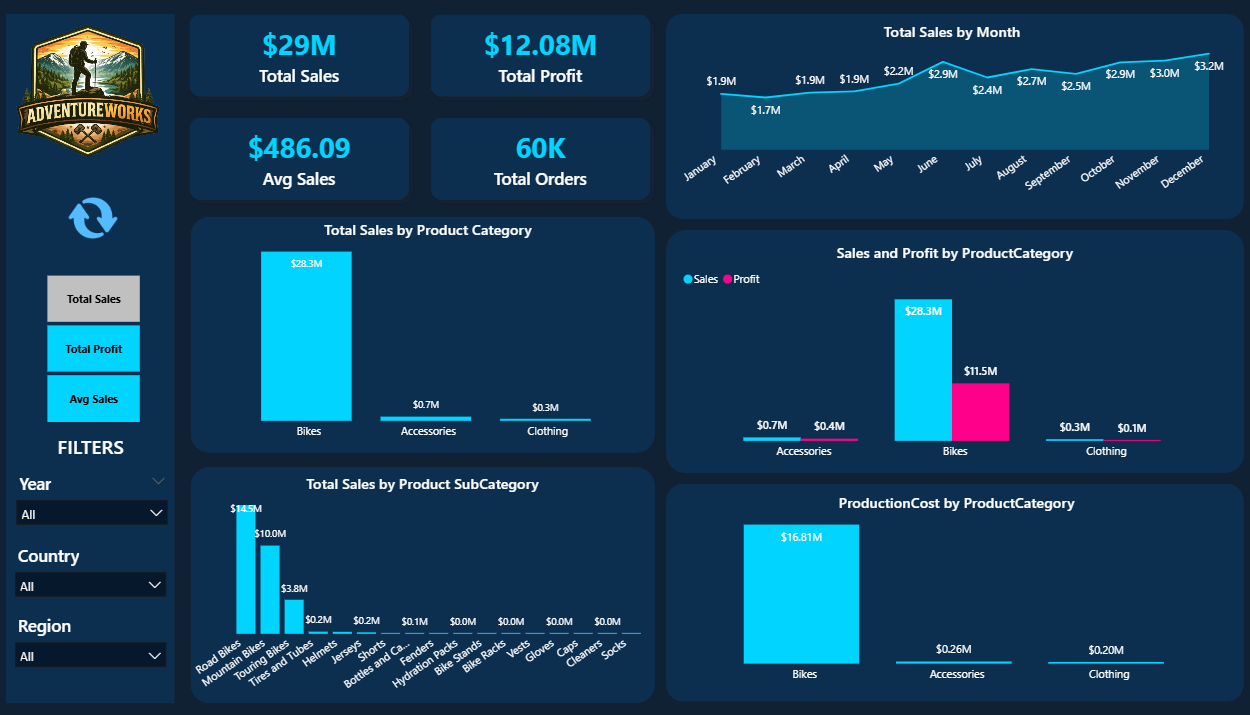

Layout of this report page (visuals, bound fields, positions):
{"tool":"powerbi","page":{"name":"Dahshboard_1","canvas":[1400,800],"ordinal":0},"visuals":[{"type":"shape","box":[10,17.1,187.1,765.7],"z":0},{"type":"cardVisual","fields":{"Data":["Sales.Total Sales","Sales.Total Profit","Sales.Avg Sales","Sales.Total Orders"]},"box":[196.6,0,546.3,241.6],"z":1000},{"type":"shape","box":[214.5,241.3,516.1,262.7],"z":2000},{"type":"clusteredColumnChart","fields":{"Y":["Sales.Total Sales"],"Category":["Products.EnglishProductCategoryName"]},"box":[234.6,245.3,487.9,253.4],"z":3000},{"type":"shape","box":[742.6,17.4,642.1,227.9],"z":4000},{"type":"shape","box":[742.9,256.6,642.4,270.2],"z":5000},{"type":"shape","box":[744,537.5,642.1,242.6],"z":6000},{"type":"areaChart","fields":{"Y":["Sales.Total Sales"],"Category":["Sales.OrderDate.Variation.Date Hierarchy.Year","Sales.OrderDate.Variation.Date Hierarchy.Quarter","Sales.OrderDate.Variation.Date Hierarchy.Month"]},"box":[752,25.5,619.3,205.1],"z":7000},{"type":"shape","box":[214.5,520.1,516.1,262.7],"z":8000},{"type":"clusteredColumnChart","fields":{"Y":["Sales.Total Sales"],"Category":["Products.EnglishProductSubcategoryName"]},"box":[214.5,526.8,516.1,253.4],"z":9000},{"type":"columnChart","fields":{"Category":["Products.EnglishProductCategoryName"],"Y":["Sum(Sales.ProductionCost)"]},"box":[756,548.3,619.3,219.8],"z":10000},{"type":"slicer","fields":{"Values":["Sales.OrderDate.Variation.Date Hierarchy.Year"]},"box":[12.1,520.1,187.7,77.7],"z":11000},{"type":"slicer","fields":{"Values":["DimSalesTerritory.SalesTerritoryCountry"]},"box":[10.7,599.2,187.7,79.1],"z":12000},{"type":"slicer","fields":{"Values":["DimSalesTerritory.SalesTerritoryRegion"]},"box":[9.4,678.3,187.7,77.7],"z":13000},{"type":"textbox","box":[12.1,477.2,185,42.9],"z":14000},{"type":"clusteredColumnChart","fields":{"Category":["Products.EnglishProductCategoryName"],"Y":["Sales.Total Sales","Sales.Total Profit"]},"box":[756.4,270.2,615.4,250.6],"z":15000},{"type":"slicer","fields":{"Values":["Parameter.Parameter"]},"box":[29.5,300.3,152.8,176.9],"z":16000},{"type":"image","box":[68.4,217.2,76.4,53.6],"z":17000},{"type":"image","box":[5.4,17.4,191.7,172.9],"z":18000}]}

Visuals, with their boxes in screenshot pixels (x1, y1, x2, y2), scaled from the page's 1400x800 canvas onto the 1250x715 screenshot:
shape: [x1=9, y1=15, x2=176, y2=700]
cardVisual - Sales.Total Sales x Sales.Total Profit: [x1=176, y1=0, x2=663, y2=216]
shape: [x1=192, y1=216, x2=652, y2=450]
clusteredColumnChart - Sales.Total Sales x Products.EnglishProductCategoryName: [x1=209, y1=219, x2=645, y2=446]
shape: [x1=663, y1=16, x2=1236, y2=219]
shape: [x1=663, y1=229, x2=1237, y2=471]
shape: [x1=664, y1=480, x2=1238, y2=697]
areaChart - Sales.Total Sales x Sales.OrderDate.Variation.Date Hierarchy.Year: [x1=671, y1=23, x2=1224, y2=206]
shape: [x1=192, y1=465, x2=652, y2=700]
clusteredColumnChart - Sales.Total Sales x Products.EnglishProductSubcategoryName: [x1=192, y1=471, x2=652, y2=697]
columnChart - Products.EnglishProductCategoryName x Sum(Sales.ProductionCost): [x1=675, y1=490, x2=1228, y2=686]
slicer - Sales.OrderDate.Variation.Date Hierarchy.Year: [x1=11, y1=465, x2=178, y2=534]
slicer - DimSalesTerritory.SalesTerritoryCountry: [x1=10, y1=536, x2=177, y2=606]
slicer - DimSalesTerritory.SalesTerritoryRegion: [x1=8, y1=606, x2=176, y2=676]
textbox: [x1=11, y1=426, x2=176, y2=465]
clusteredColumnChart - Products.EnglishProductCategoryName x Sales.Total Sales: [x1=675, y1=241, x2=1225, y2=465]
slicer - Parameter.Parameter: [x1=26, y1=268, x2=163, y2=426]
image: [x1=61, y1=194, x2=129, y2=242]
image: [x1=5, y1=16, x2=176, y2=170]
